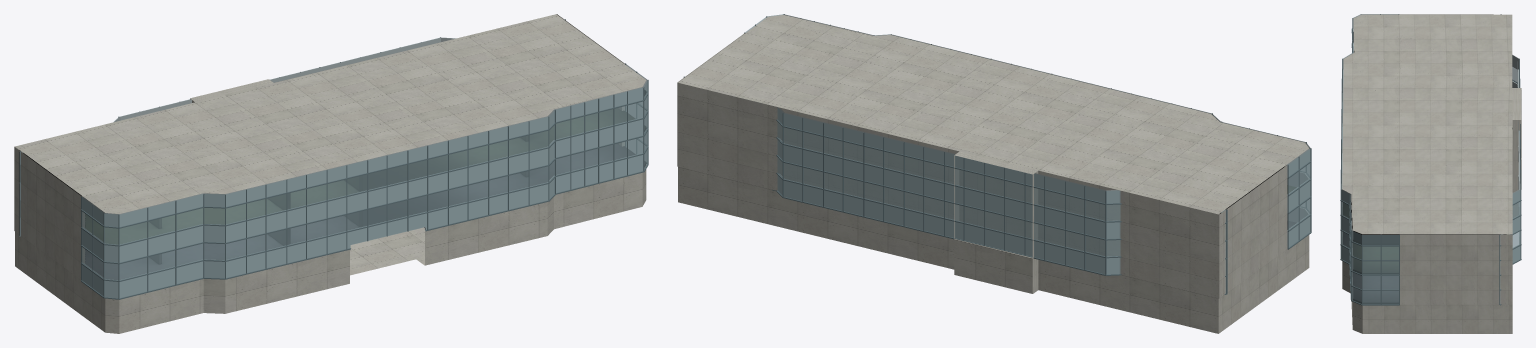
Rendered from dispatch.gltf.
3 renders of one model, left to right at view 1: azimuth 30°, elevation 25°; view 2: azimuth 150°, elevation 25°; view 3: azimuth 270°, elevation 25°, orthographic. The views are drawn at different scales.
Parts seen in each view (by area): view 1: low-BLD_OFFICE_06_w2_0, low-BLD_OFFICE_01_glass_0, low-BLD_OFFICE_00_walls_exterior_0, low-BLD_OFFICE_05_walls [BLD_OFFICE_05]_0, low-BLD_OFFICE_02_rams_0; view 2: low-BLD_OFFICE_06_w2_0, low-BLD_OFFICE_01_glass_0, low-BLD_OFFICE_00_walls_exterior_0, low-BLD_OFFICE_02_rams_0; view 3: low-BLD_OFFICE_06_w2_0, low-BLD_OFFICE_01_glass_0, low-BLD_OFFICE_05_walls [BLD_OFFICE_05]_0, low-BLD_OFFICE_02_rams_0, low-BLD_OFFICE_00_walls_exterior_0.
Part boxes in pixels (x1,y1,x2,y2): low-BLD_OFFICE_06_w2_0: [14, 14, 646, 333]; low-BLD_OFFICE_01_glass_0: [20, 19, 647, 298]; low-BLD_OFFICE_00_walls_exterior_0: [20, 37, 642, 297]; low-BLD_OFFICE_05_walls [BLD_OFFICE_05]_0: [23, 90, 645, 279]; low-BLD_OFFICE_02_rams_0: [19, 19, 648, 299]; low-BLD_OFFICE_06_w2_0: [677, 15, 1309, 333]; low-BLD_OFFICE_01_glass_0: [745, 14, 1310, 292]; low-BLD_OFFICE_00_walls_exterior_0: [778, 14, 1310, 273]; low-BLD_OFFICE_02_rams_0: [683, 14, 1311, 294]; low-BLD_OFFICE_06_w2_0: [1342, 14, 1521, 333]; low-BLD_OFFICE_01_glass_0: [1341, 14, 1520, 304]; low-BLD_OFFICE_05_walls [BLD_OFFICE_05]_0: [1343, 32, 1512, 303]; low-BLD_OFFICE_02_rams_0: [1340, 14, 1521, 305]; low-BLD_OFFICE_00_walls_exterior_0: [1341, 14, 1520, 299].
Bounding box in the file's own units: 46.71 × 9.8 × 16.15.
Materials: 6 (2 with a texture image).
